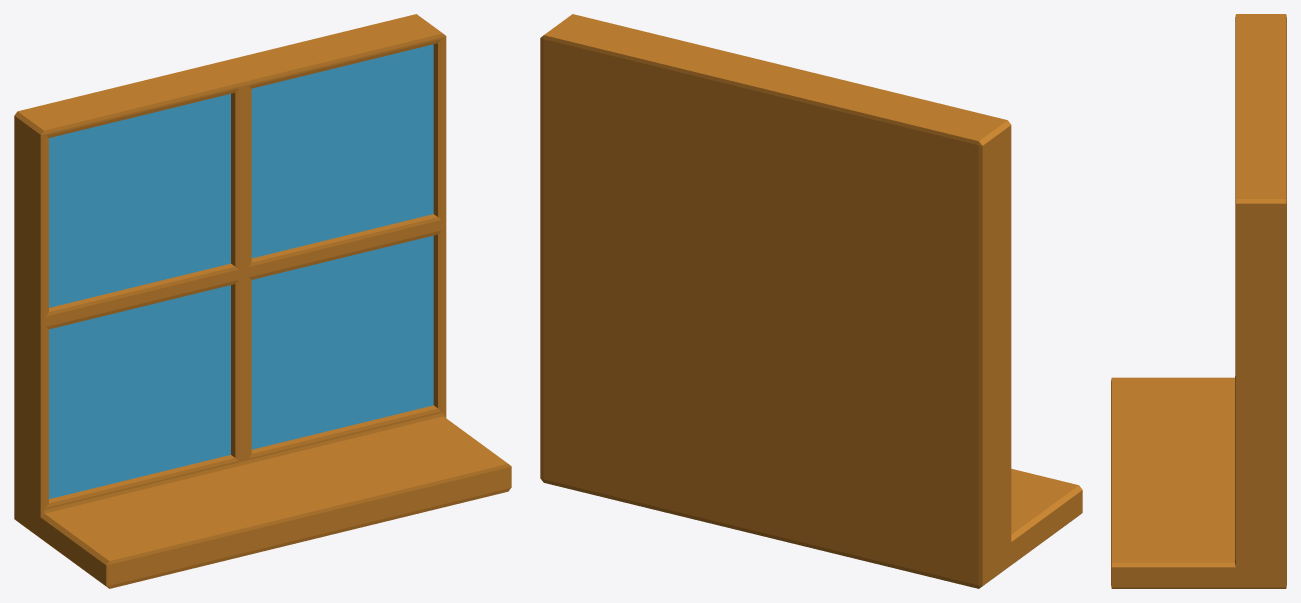
Rendered from Windows.fbx.
3 views of the same model, side by side, from view 1: azimuth 30°, elevation 25°; view 2: azimuth 150°, elevation 25°; view 3: azimuth 270°, elevation 25° (orthographic). The views are drawn at different scales.
Visible parts, largest first — view 1: Cube; view 2: Cube; view 3: Cube.
Boxes of the visible parts, bbox=[...] form: Cube: bbox=[14, 14, 511, 588]; Cube: bbox=[540, 14, 1082, 588]; Cube: bbox=[1111, 14, 1286, 588].
Bounding box in the file's own units: 297 × 287 × 117.
